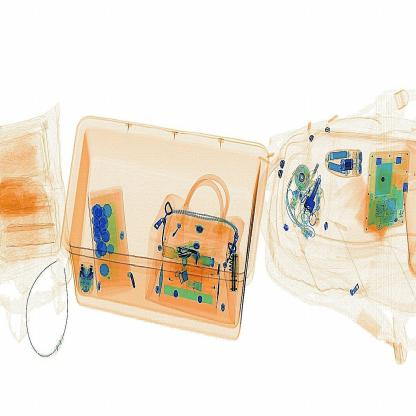scissors: (225, 246, 246, 302)
